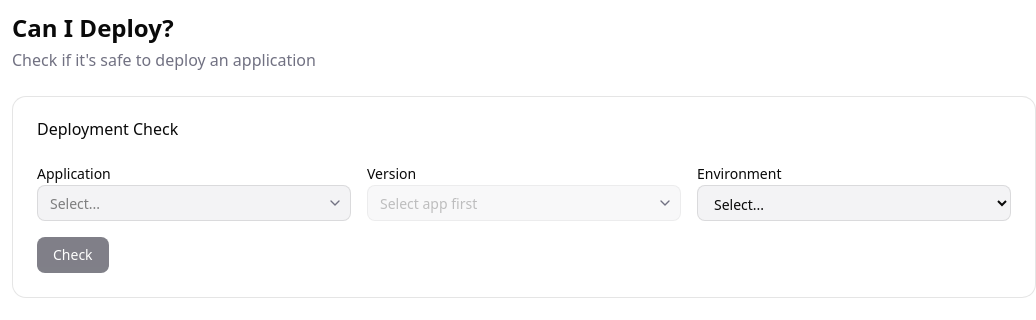
Scenario: CanIDeployPage › should enable Check button when all fields are filled
Click the dropdown with placeholder "Select..." at [194, 203], box [37,185,351,221]
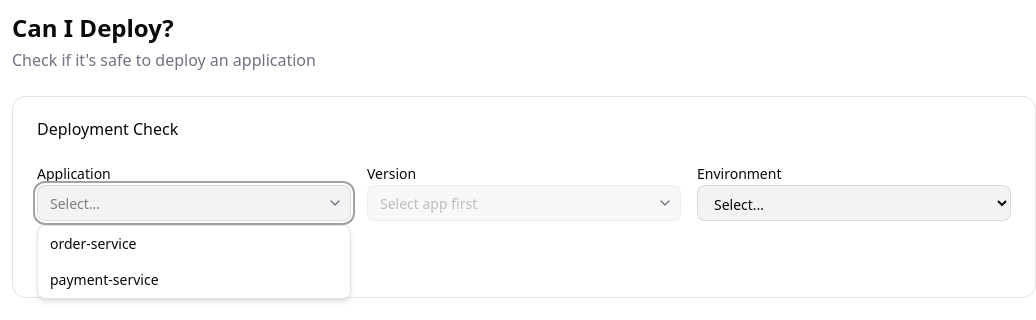
Result: the option "order-service" is shown
Click the option "order-service" at [93, 244], box [50,234,136,253]
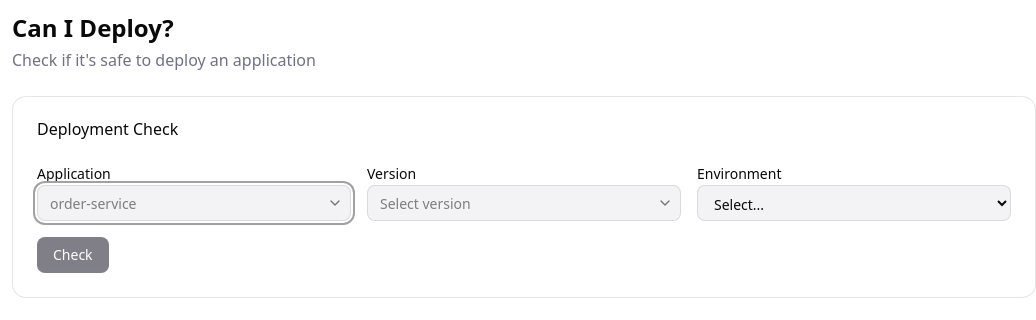
Result: the dropdown with placeholder "Select version" is enabled
Click the dropdown with placeholder "Select version" at [524, 203], box [367,185,681,221]
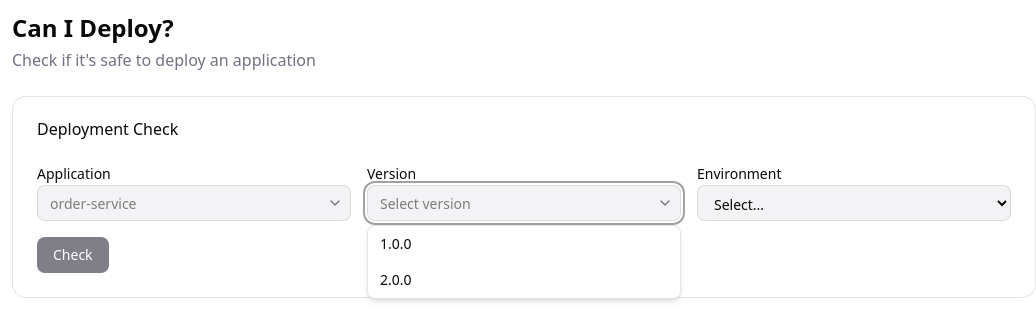
Result: the option "1.0.0" is shown
Click the option "1.0.0" at [396, 244], box [380,234,412,253]
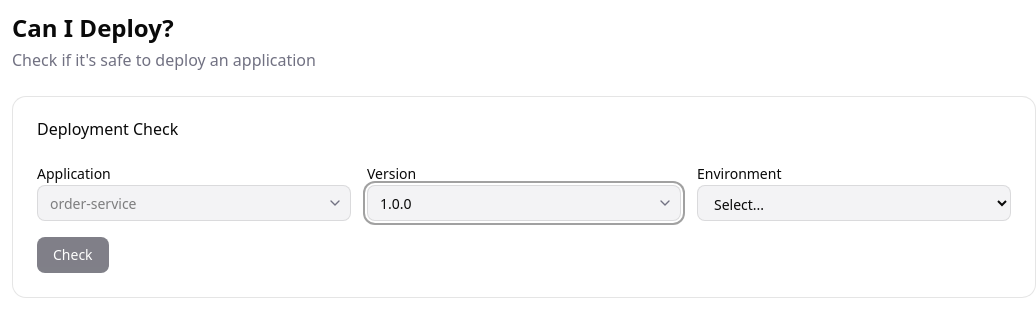
Select "staging" in the dropdown labelled "Environment" at [854, 203], box [697,185,1011,221]
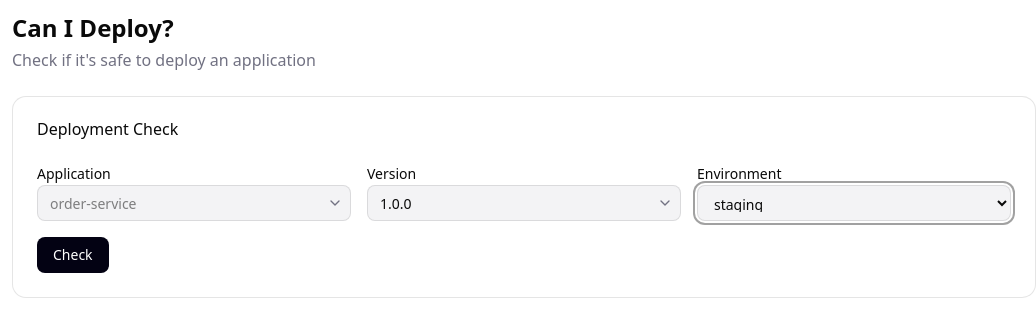
Result: the button "Check" is enabled at [37,237,109,273]
